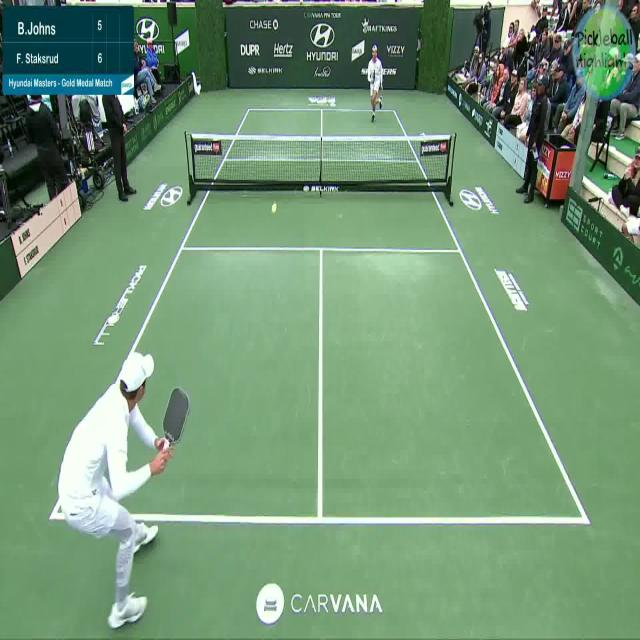Court: (46, 103, 590, 522)
ball: (267, 197, 280, 215)
